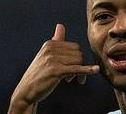clockwise: (27, 21, 100, 101)
